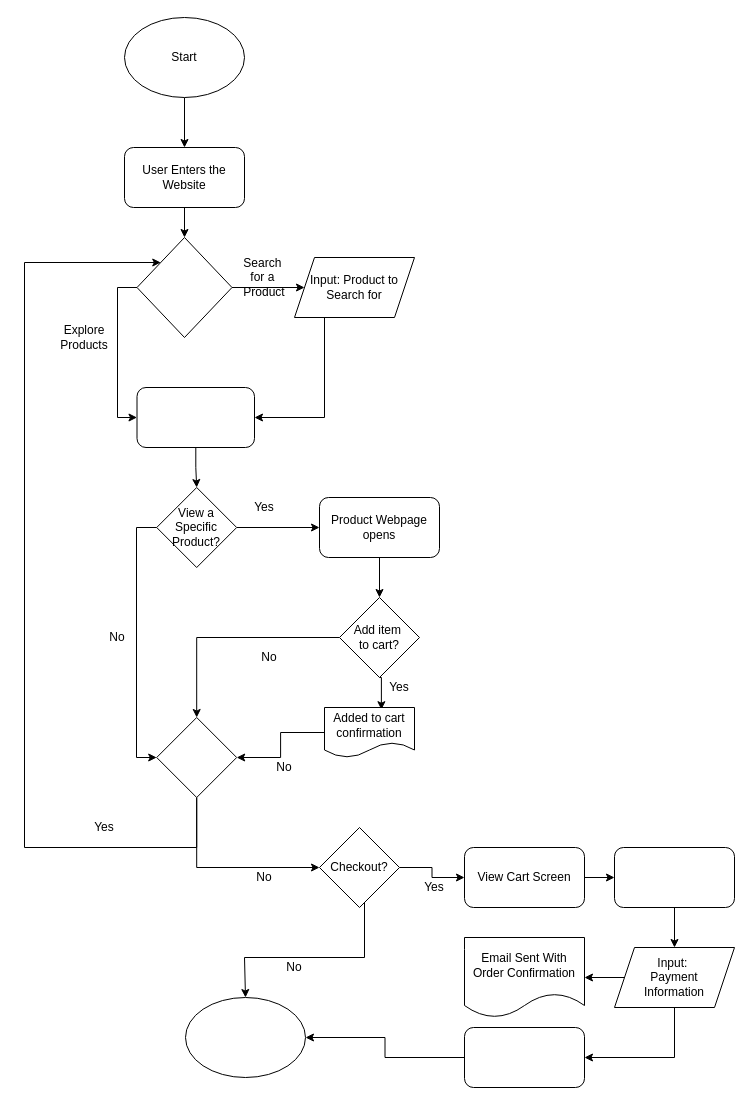
Some shapes in this 752 by 1105 pixel diagram are drawn without their labels. Each missing label, with the box of its shape:
Continue Shopping?: (156, 716, 237, 798)
Exit Website: (184, 996, 306, 1078)
Order Confirmation Screen: (464, 1026, 584, 1088)
Search/ Explore Products: (136, 236, 232, 338)
User Begins looking over products: (136, 386, 254, 448)
View Payment Screen: (614, 846, 734, 908)
